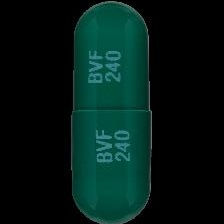0093-5118: (0, 0, 224, 224)
